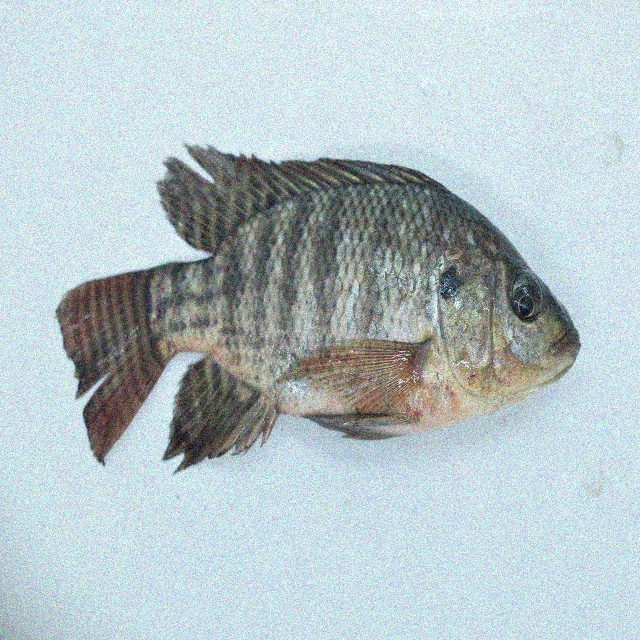Columnaris Disease: (39, 146, 588, 496)
